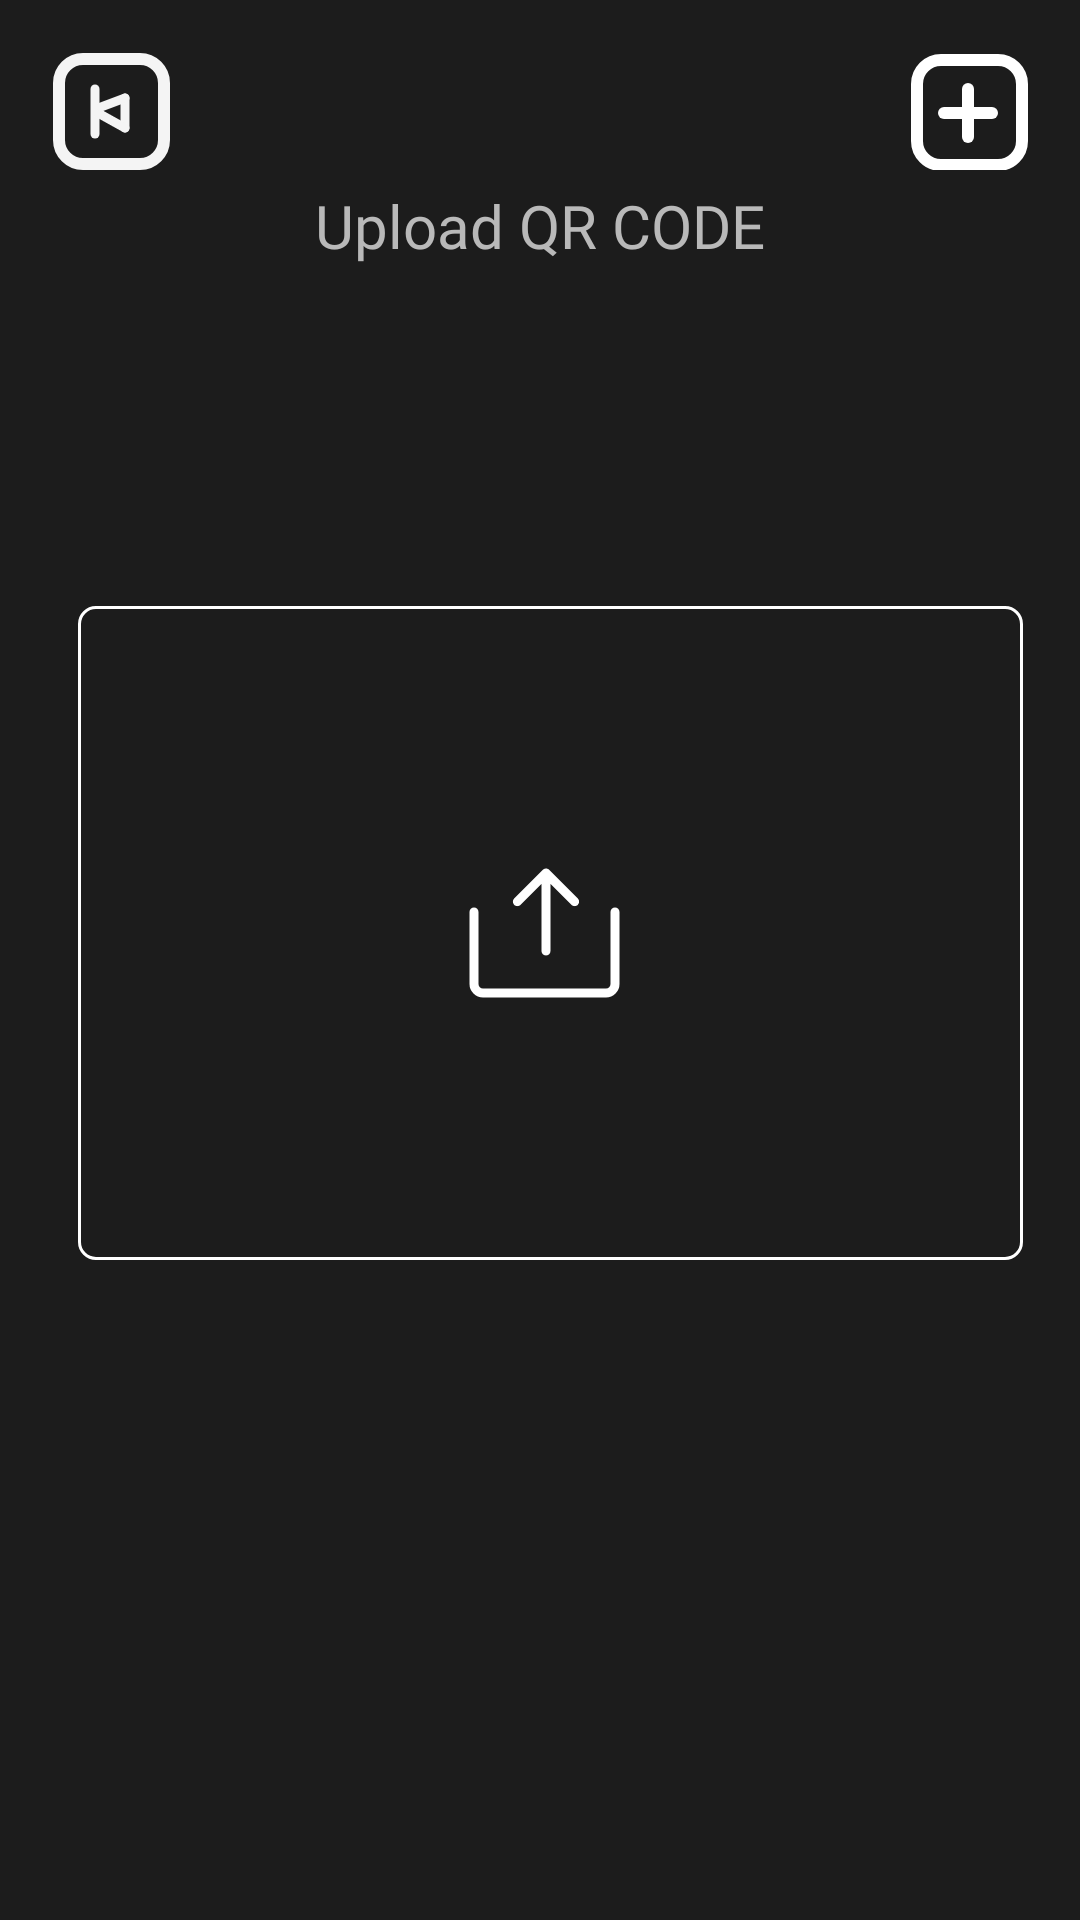

Icon bounding boxes for this 1080w x 1920h phone screenshot, format detection(x1, y1, x2, y2):
backmenu: detection(53, 53, 170, 170)
plus: detection(911, 54, 1028, 170)
